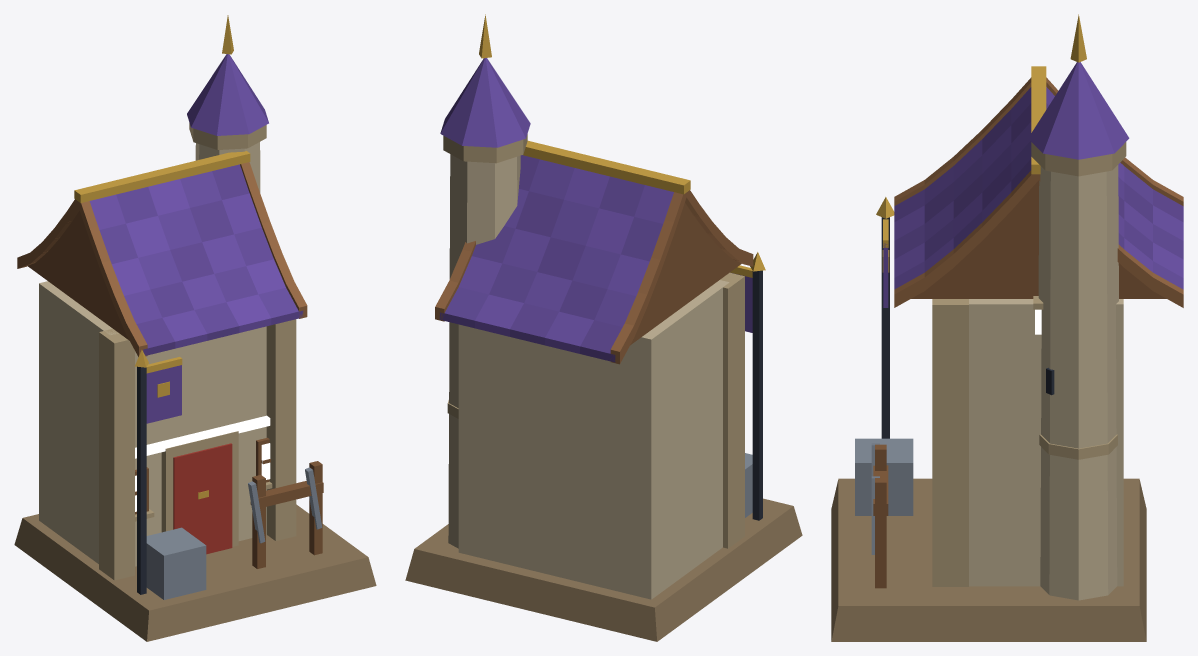
The model's file is camp_sniper_t3.glb.
The picture shows the model from 3 angles, left to right: view 1: azimuth 30°, elevation 25°; view 2: azimuth 150°, elevation 25°; view 3: azimuth 270°, elevation 25°; orthographic projection. The views are drawn at different scales.
Parts seen in each view (by area): view 1: body, glow; view 2: body; view 3: body.
Part boxes in pixels (left/top/right/bottom): body: left=14, top=15, right=376, bottom=641; glow: left=135, top=415, right=270, bottom=511; body: left=405, top=14, right=802, bottom=641; body: left=831, top=14, right=1183, bottom=641.
Size of the model in its own units: 1.9 by 3.99 by 2.12.
